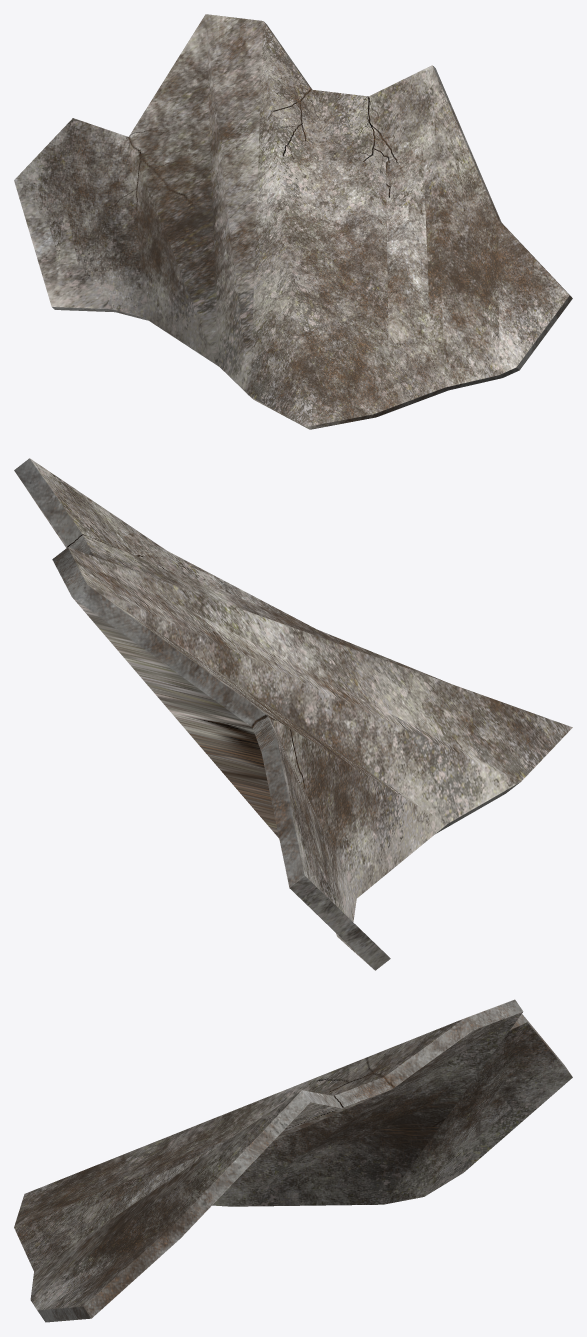
Rendered from RuinaEdificio4.obj.
3 views of the same model, one above another, from view 1: azimuth 30°, elevation 25°; view 2: azimuth 150°, elevation 25°; view 3: azimuth 270°, elevation 25° (orthographic). The views are drawn at different scales.
Parts seen in each view (by area): view 1: Object021; view 2: Object021; view 3: Object021.
Part boxes in pixels (x1=…): Object021: x1=14, y1=14, x2=572, y2=429; Object021: x1=14, y1=458, x2=572, y2=970; Object021: x1=14, y1=999, x2=572, y2=1322.
Bounding box in the file's own units: 35.77 × 22.49 × 42.12.
Materials: 1 (1 with a texture image).
